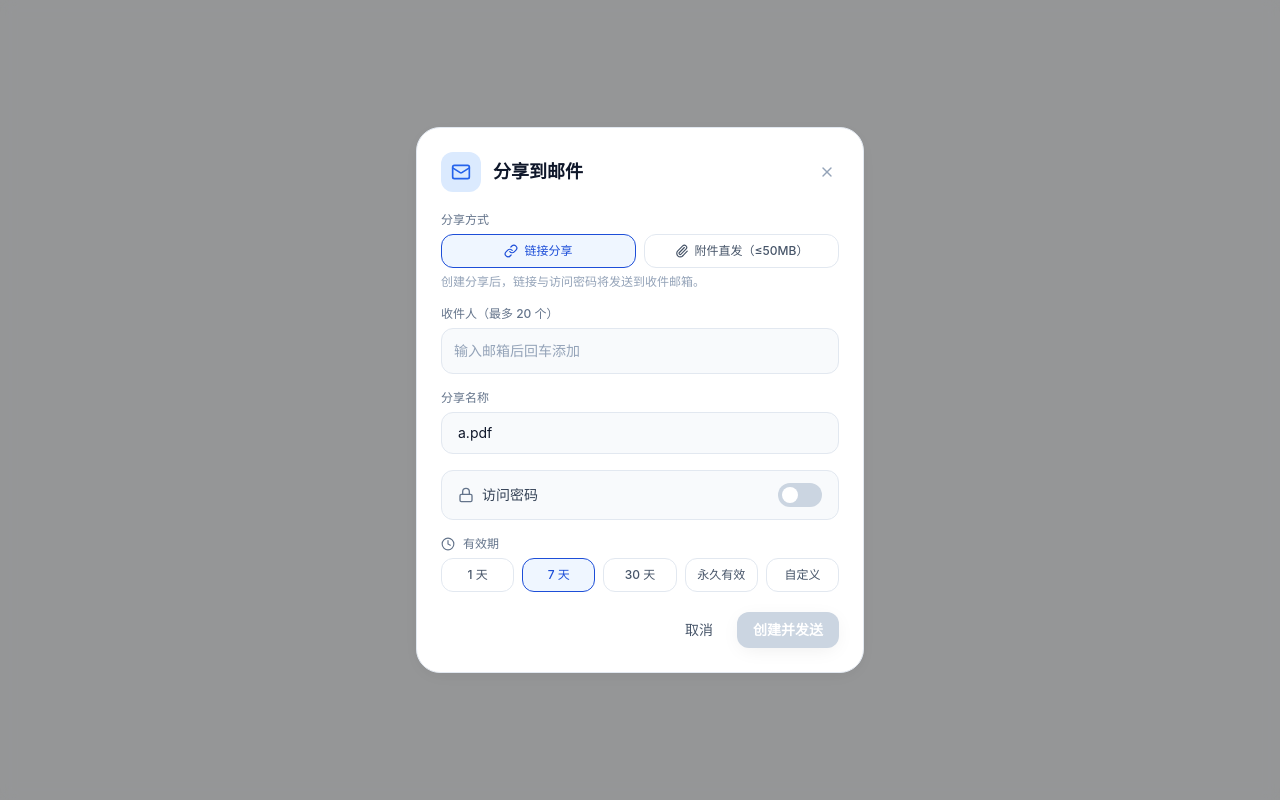
Test case: EmailShareModal › rejects malformed recipient email
Type "not-an-email" into the field with placeholder "输入邮箱后回车添加" at {"x": 640, "y": 351}, box [454,337,826,365]
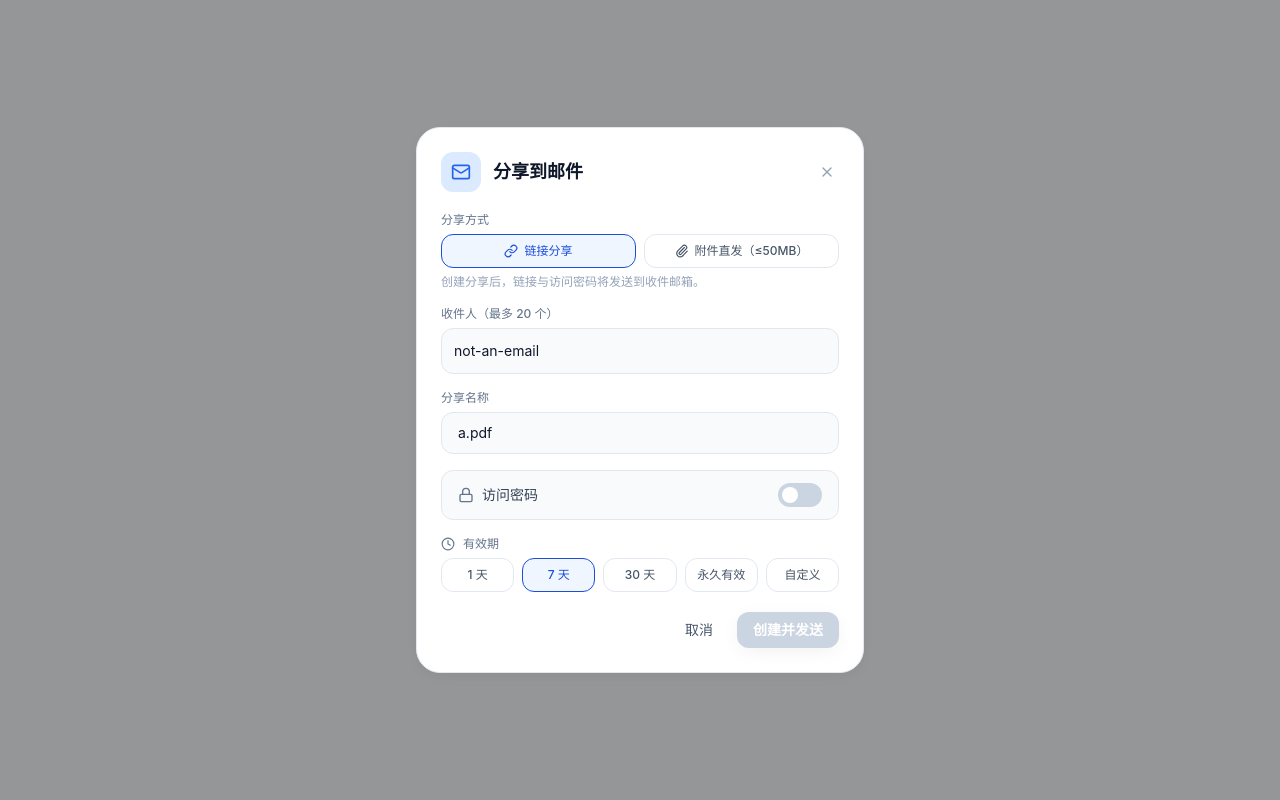
Press Enter in the field with placeholder "输入邮箱后回车添加" below "收件人（最多 20 个）", box [454,337,826,365]
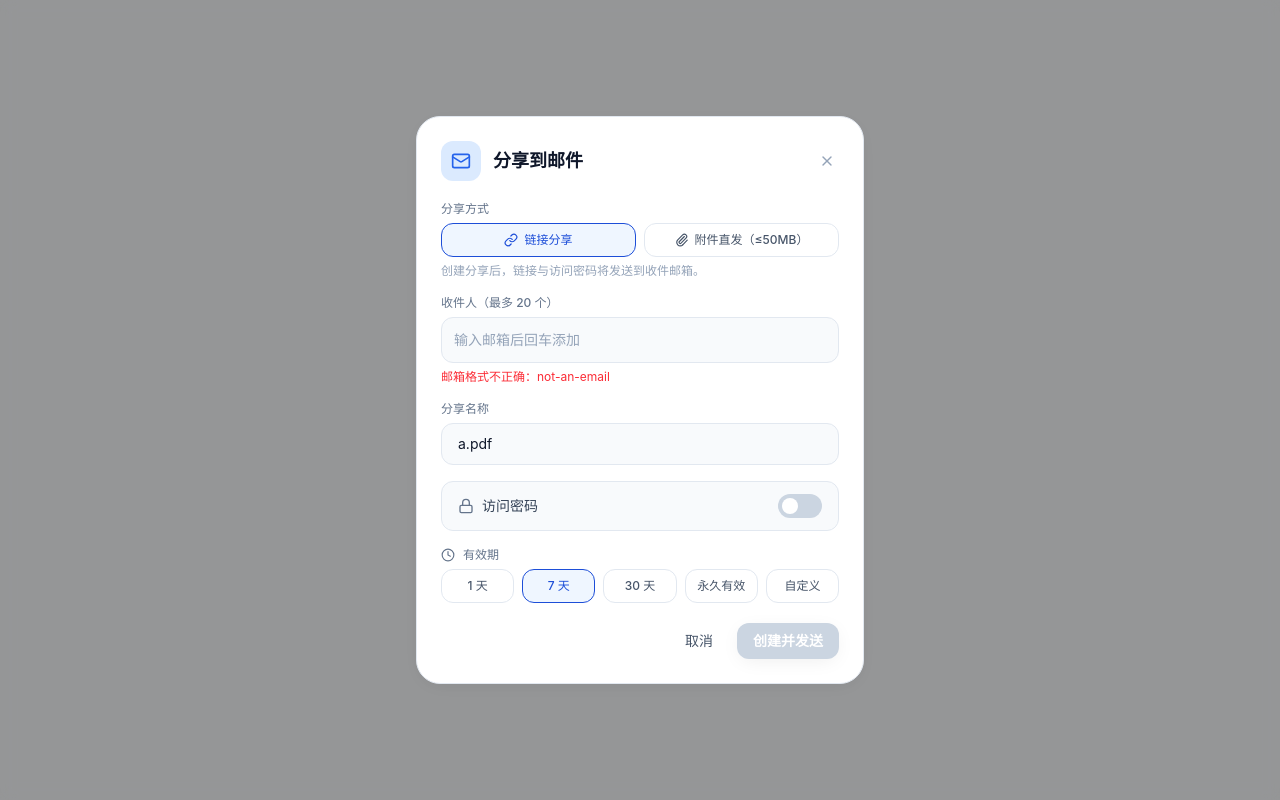
Now the text "邮箱格式不正确" is shown, box [441,369,610,384]
